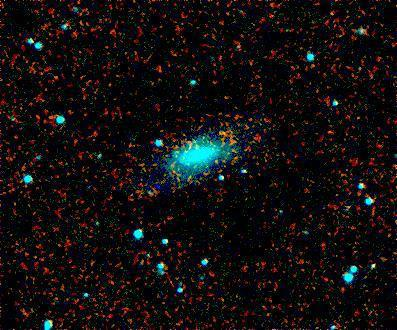star: (212, 118, 242, 148)
